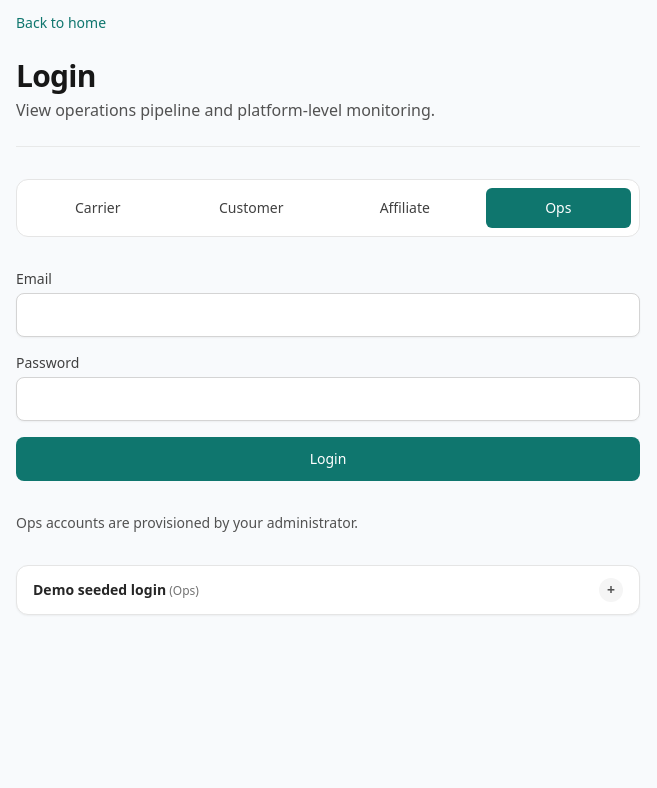
Test case: LoginForm › shows only ops demo row when Ops portal is selected
Click the text "Demo seeded login(Ops)".
click(116, 590)  # box x1=33 y1=580 x2=199 y2=600
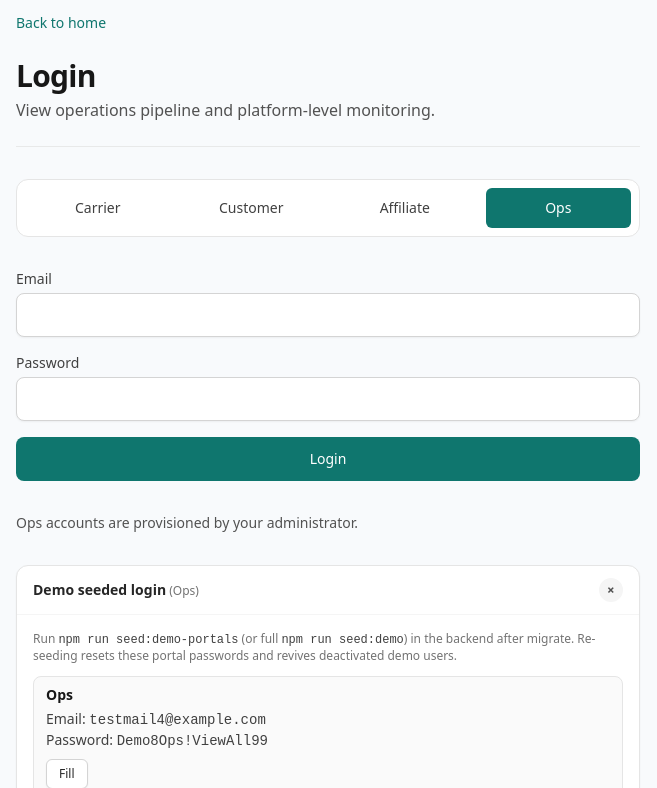
Result: the text "testmail4@example.com" is shown at x1=89 y1=712 x2=266 y2=728
Click the button with aria-label "fill ops demo credentials".
click(67, 774)  # box x1=46 y1=759 x2=88 y2=787
(page scrolled)
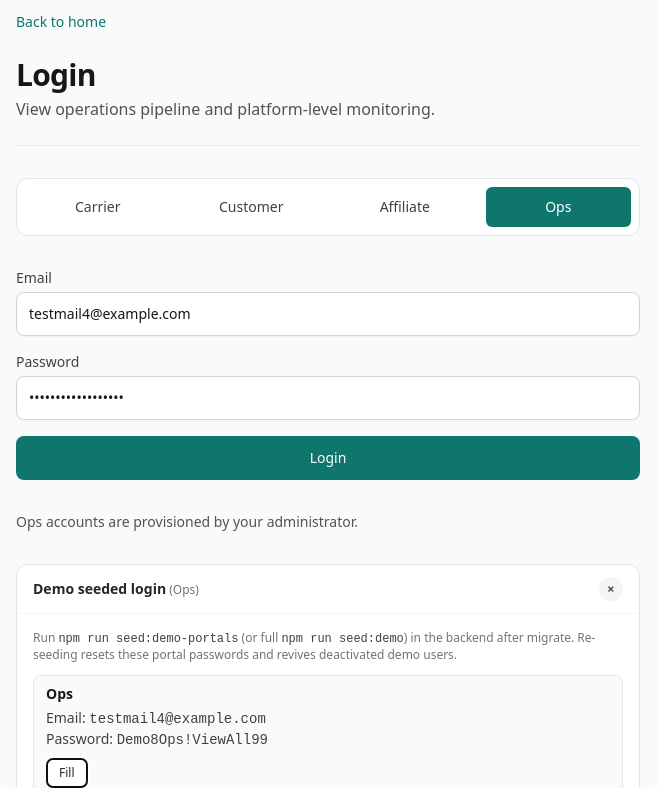
Result: the field labelled "Email" holds "testmail4@example.com" at x1=16 y1=292 x2=640 y2=336
Result: the password field labelled "Password" holds "Demo8Ops!ViewAll99" at x1=16 y1=376 x2=640 y2=420
